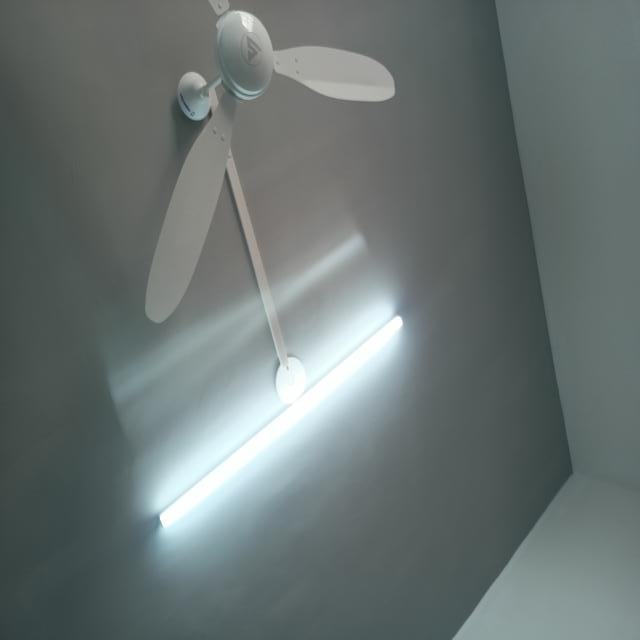fluorescent tube: (152, 307, 410, 545)
